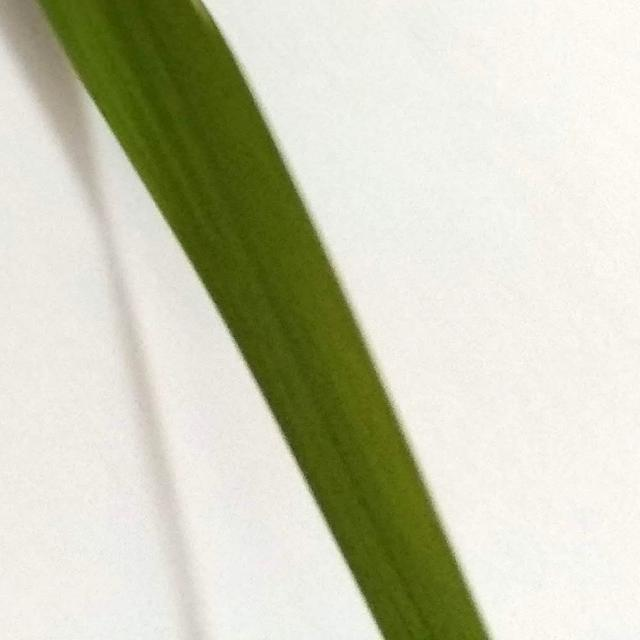Rice_Healthy: (38, 0, 490, 639)
